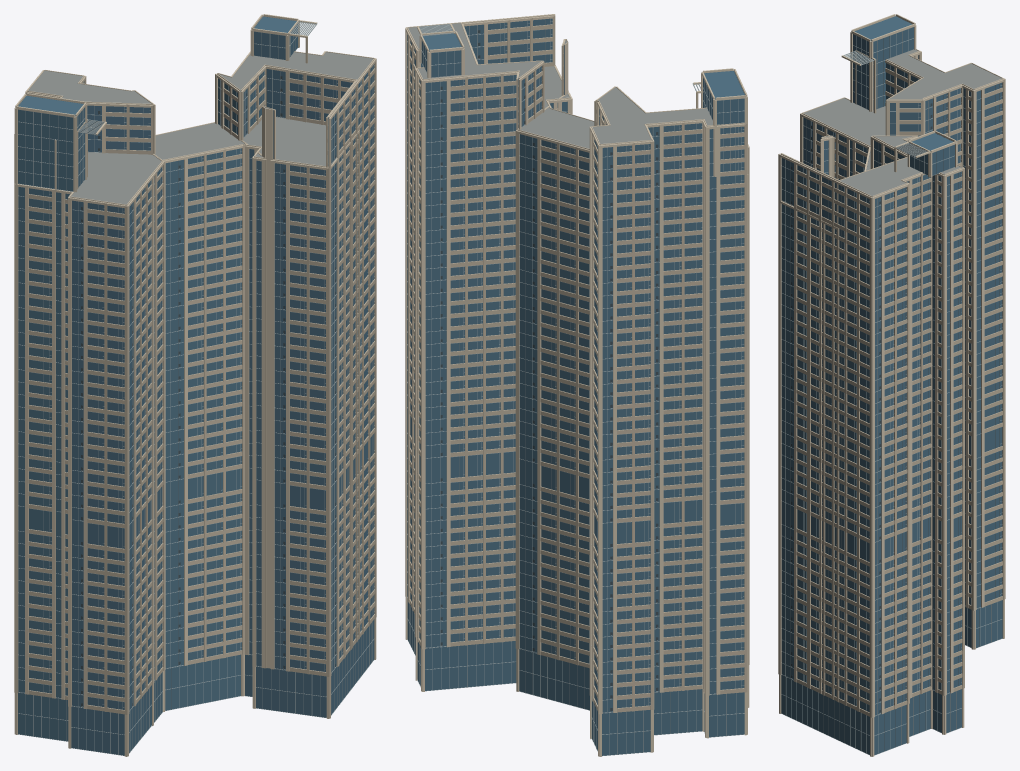
The model's file is bespoke-galleria-palace-c.glb.
3 views of the same model, side by side, from view 1: azimuth 30°, elevation 25°; view 2: azimuth 150°, elevation 25°; view 3: azimuth 270°, elevation 25° (orthographic). The views are drawn at different scales.
Visible parts, largest first — view 1: bespoke-galleria-palace-c_export_batch_2, bespoke-galleria-palace-c_export_batch_6, bespoke-galleria-palace-c_export_batch_3, bespoke-galleria-palace-c_export_batch_4, bespoke-galleria-palace-c_export_batch_5, bespoke-galleria-palace-c_export_batch_8, bespoke-galleria-palace-c_export_batch_7; view 2: bespoke-galleria-palace-c_export_batch_2, bespoke-galleria-palace-c_export_batch_6, bespoke-galleria-palace-c_export_batch_3, bespoke-galleria-palace-c_export_batch_4, bespoke-galleria-palace-c_export_batch_5, bespoke-galleria-palace-c_export_batch_8, bespoke-galleria-palace-c_export_batch_7; view 3: bespoke-galleria-palace-c_export_batch_2, bespoke-galleria-palace-c_export_batch_6, bespoke-galleria-palace-c_export_batch_3, bespoke-galleria-palace-c_export_batch_4, bespoke-galleria-palace-c_export_batch_5, bespoke-galleria-palace-c_export_batch_7, bespoke-galleria-palace-c_export_batch_8.
Part boxes in pixels (x1,y1,x2,y2): bespoke-galleria-palace-c_export_batch_2: (18,16,374,755); bespoke-galleria-palace-c_export_batch_6: (14,34,376,714); bespoke-galleria-palace-c_export_batch_3: (14,14,376,756); bespoke-galleria-palace-c_export_batch_4: (18,21,374,755); bespoke-galleria-palace-c_export_batch_5: (28,52,373,204); bespoke-galleria-palace-c_export_batch_8: (29,69,374,710); bespoke-galleria-palace-c_export_batch_7: (81,76,335,706); bespoke-galleria-palace-c_export_batch_2: (407,18,744,755); bespoke-galleria-palace-c_export_batch_6: (406,15,748,713); bespoke-galleria-palace-c_export_batch_3: (405,14,749,756); bespoke-galleria-palace-c_export_batch_4: (407,19,744,756); bespoke-galleria-palace-c_export_batch_5: (408,23,712,148); bespoke-galleria-palace-c_export_batch_8: (409,25,744,708); bespoke-galleria-palace-c_export_batch_7: (440,30,658,711); bespoke-galleria-palace-c_export_batch_2: (781,16,1002,754); bespoke-galleria-palace-c_export_batch_6: (796,50,1005,717); bespoke-galleria-palace-c_export_batch_3: (778,14,1005,756); bespoke-galleria-palace-c_export_batch_4: (781,29,1002,755); bespoke-galleria-palace-c_export_batch_5: (804,49,1001,196); bespoke-galleria-palace-c_export_batch_7: (791,103,932,712); bespoke-galleria-palace-c_export_batch_8: (797,78,1002,712).
Size of the model in its own units: 87.02 by 149 by 52.61.
